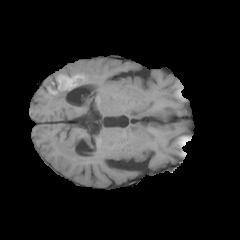glioma: (47, 74, 99, 170)
